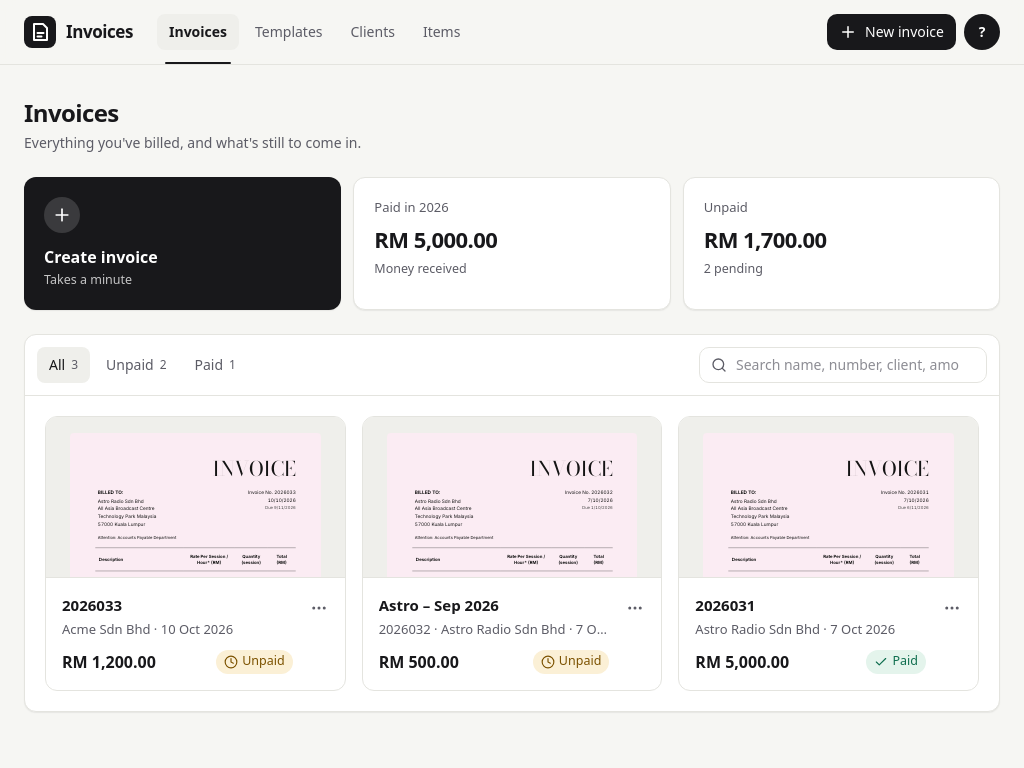
Test: invoices dashboard › filters by status tab and keeps the filter in the URL
Click the tab "Paid 1" at (215, 365), box [182,347,248,383]
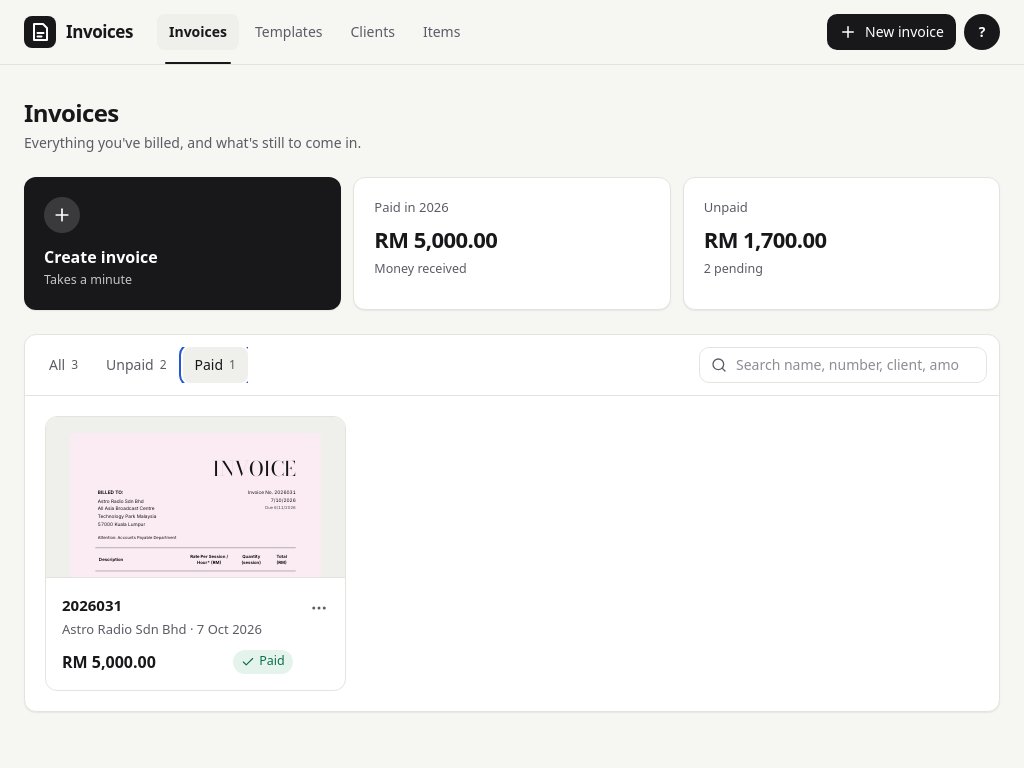
Now the links read "2026031", in this order, box [62,595,122,615]
